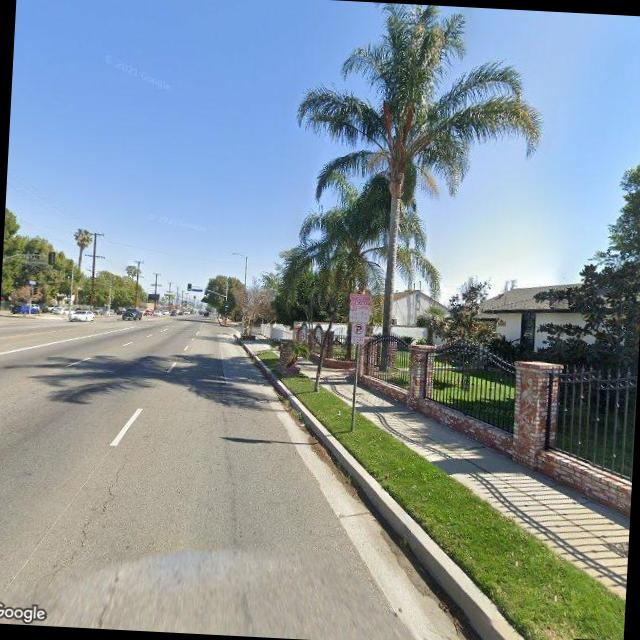crack: (36, 443, 130, 595)
